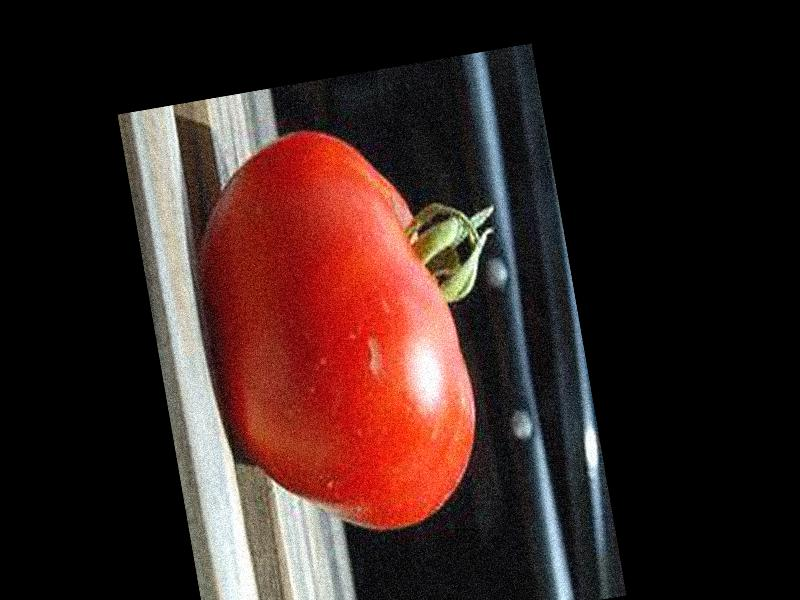Tomato: (182, 103, 541, 552)
